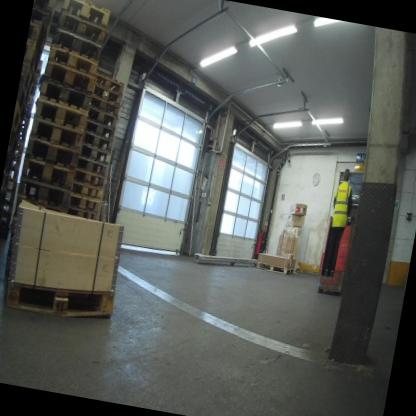pallet: (0, 263, 123, 330), (49, 8, 107, 50), (22, 133, 80, 175), (35, 74, 93, 114), (25, 115, 85, 152), (29, 94, 87, 131), (17, 154, 76, 190), (15, 175, 74, 208), (48, 27, 103, 62), (54, 0, 111, 33), (41, 59, 96, 91), (44, 44, 97, 76), (22, 24, 48, 72), (93, 68, 127, 96), (85, 104, 119, 130), (19, 42, 40, 84), (66, 192, 101, 216), (72, 167, 107, 191), (78, 146, 113, 170), (74, 157, 110, 180), (16, 61, 36, 102), (79, 131, 113, 155), (257, 258, 296, 278), (82, 119, 115, 142), (89, 84, 123, 106), (27, 8, 49, 42), (68, 180, 103, 201), (13, 84, 31, 123), (89, 95, 121, 116), (30, 0, 59, 23), (32, 0, 56, 25), (11, 99, 25, 134), (4, 177, 19, 195), (7, 128, 17, 153), (11, 141, 22, 159), (0, 169, 9, 191), (3, 151, 11, 175), (7, 165, 18, 182), (291, 262, 303, 277), (0, 201, 12, 215), (20, 105, 32, 119), (15, 129, 26, 144), (3, 190, 13, 204), (10, 154, 20, 168), (19, 118, 28, 133), (0, 225, 9, 239), (0, 215, 10, 224)
pallet_truck: (310, 205, 362, 305)
